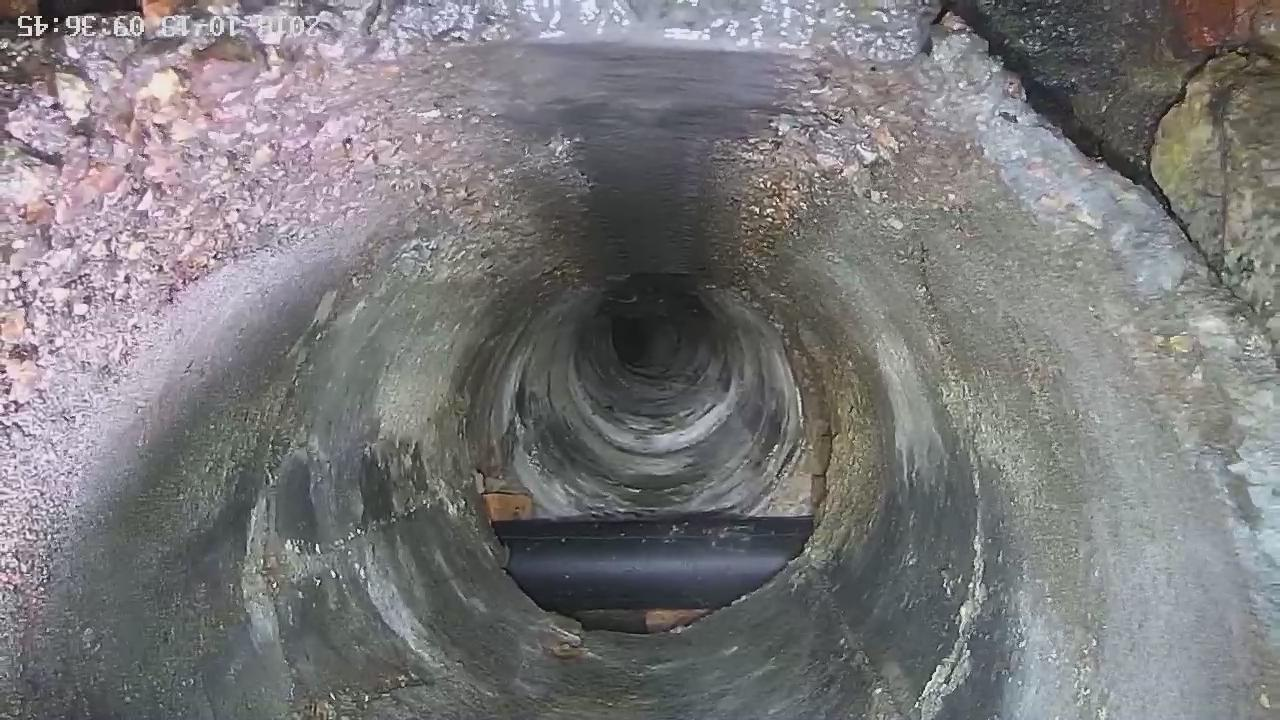YWCR: (494, 517, 813, 615)
